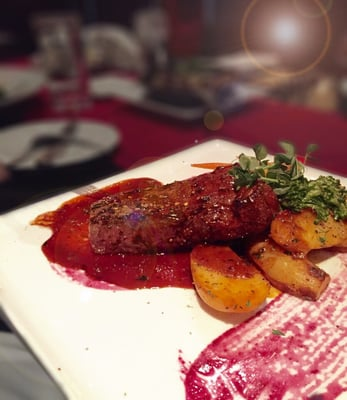burger: (9, 121, 80, 168)
curry: (277, 174, 347, 222)
